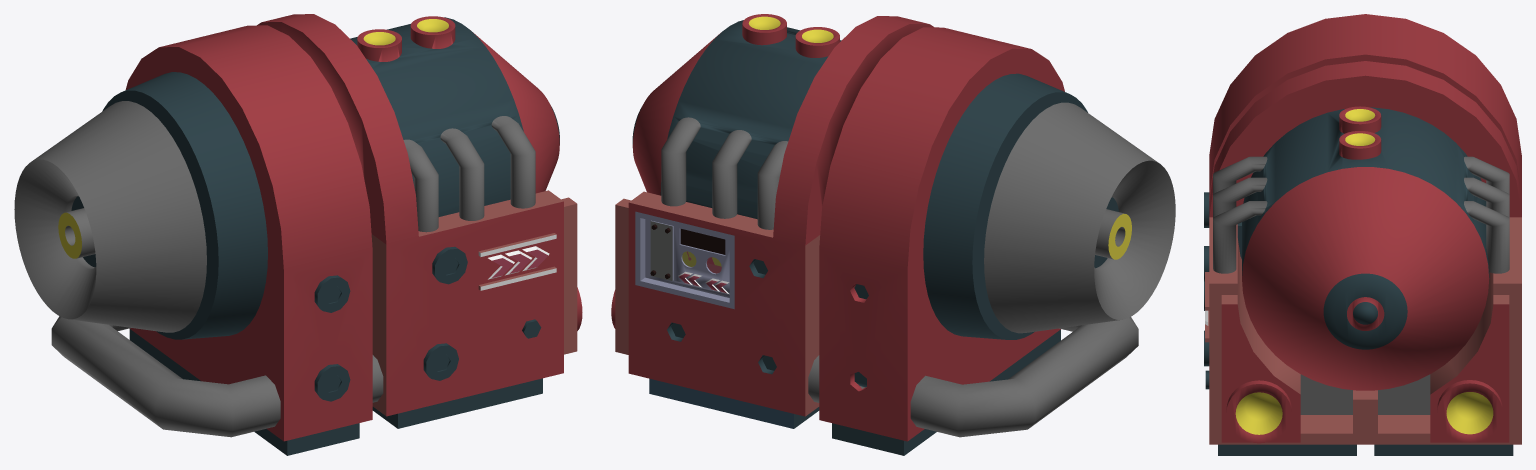
Rendered from MegaTurbine_01.fbx.
3 renders of one model, left to right at view 1: azimuth 30°, elevation 25°; view 2: azimuth 150°, elevation 25°; view 3: azimuth 270°, elevation 25°, orthographic. The views are drawn at different scales.
Parts seen in each view (by area): view 1: Model; view 2: Model; view 3: Model.
Part boxes in pixels (<box>): Model: <box>14,14,582,455</box>; Model: <box>611,14,1175,455</box>; Model: <box>1204,14,1521,455</box>.
Bounding box in the file's own units: 476 × 317 × 284.
